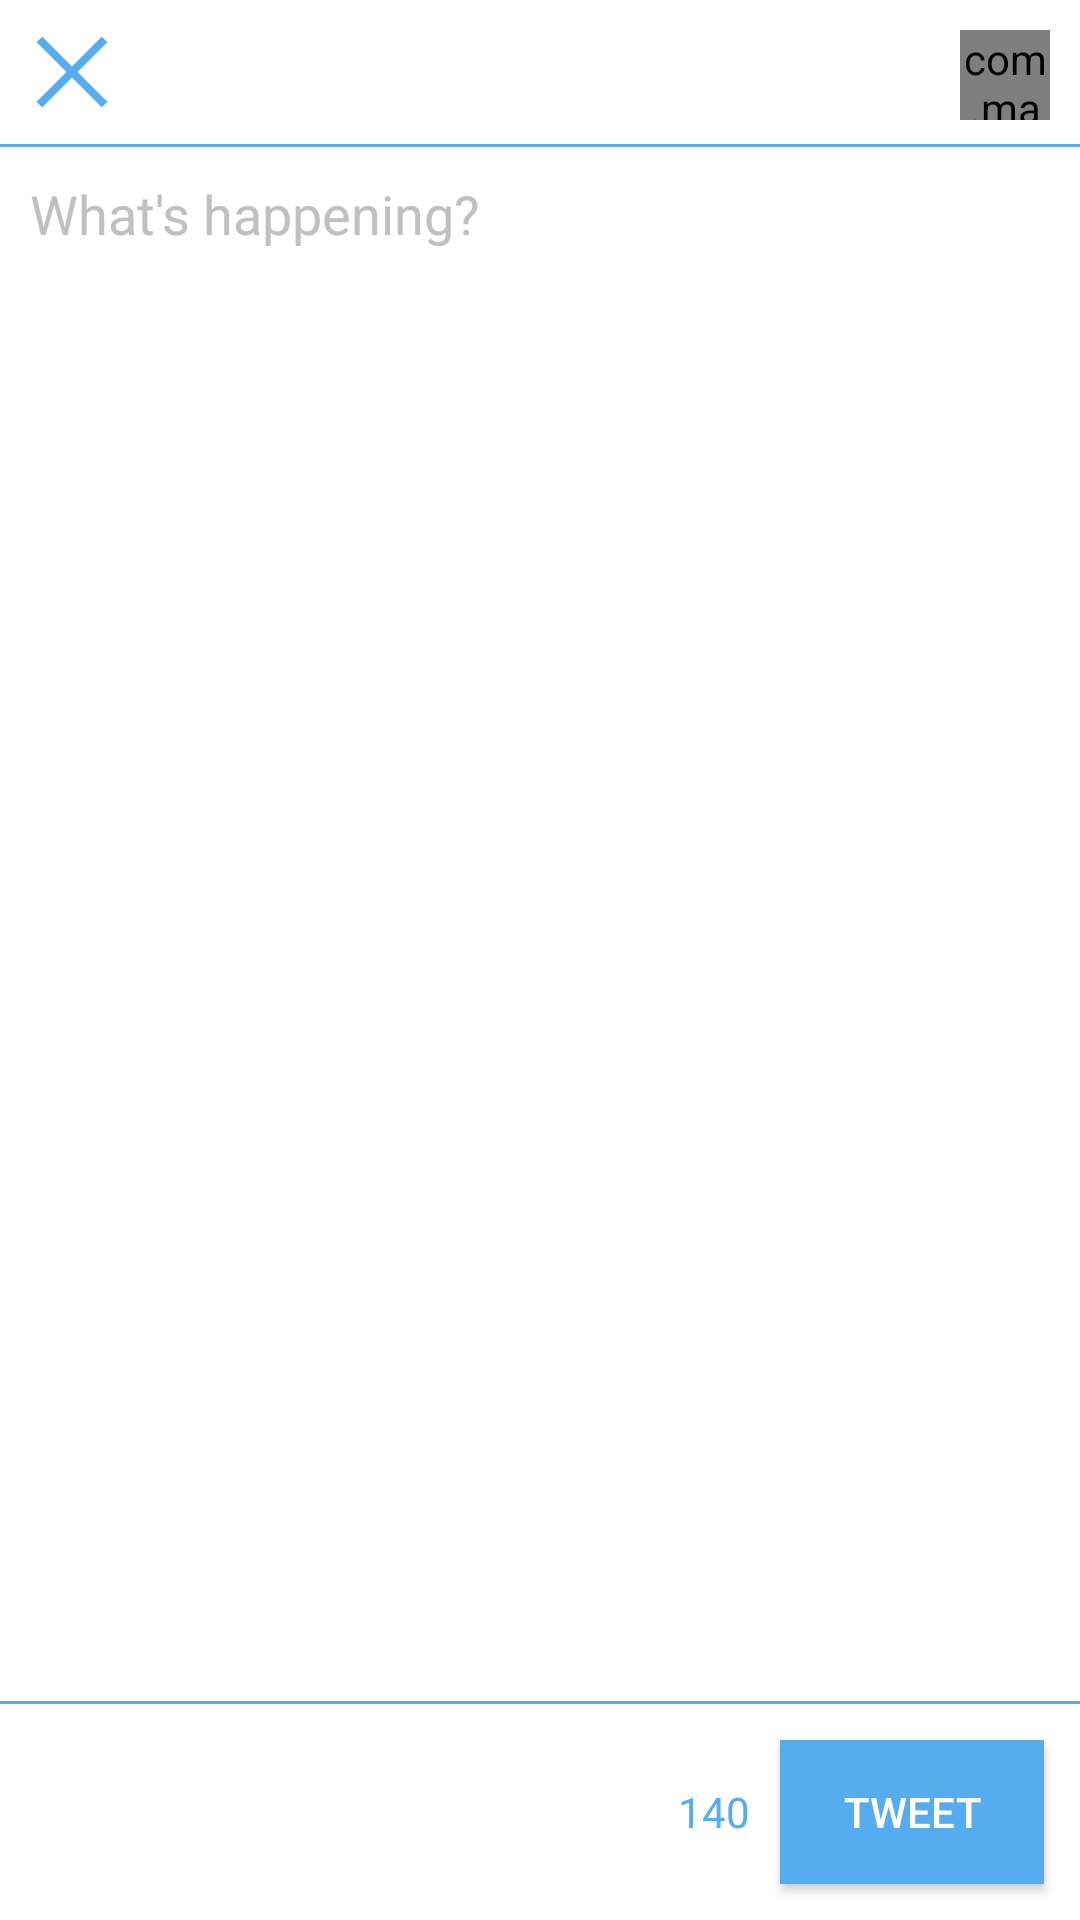

Named icons in this screenshot (1080px×1920px) and their bounding boxes, (x1, y1, x2, y2):
close: (37, 37, 107, 107)
